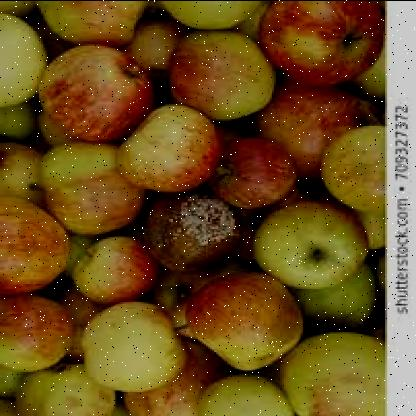apple: (160, 28, 276, 118), (37, 40, 142, 138), (80, 296, 186, 390), (192, 273, 290, 373), (266, 3, 377, 85), (282, 324, 379, 411), (256, 203, 356, 286), (45, 145, 140, 230), (258, 92, 352, 176), (120, 108, 214, 190), (0, 198, 70, 288), (2, 293, 74, 376)
damaged_apple: (148, 191, 254, 283)
